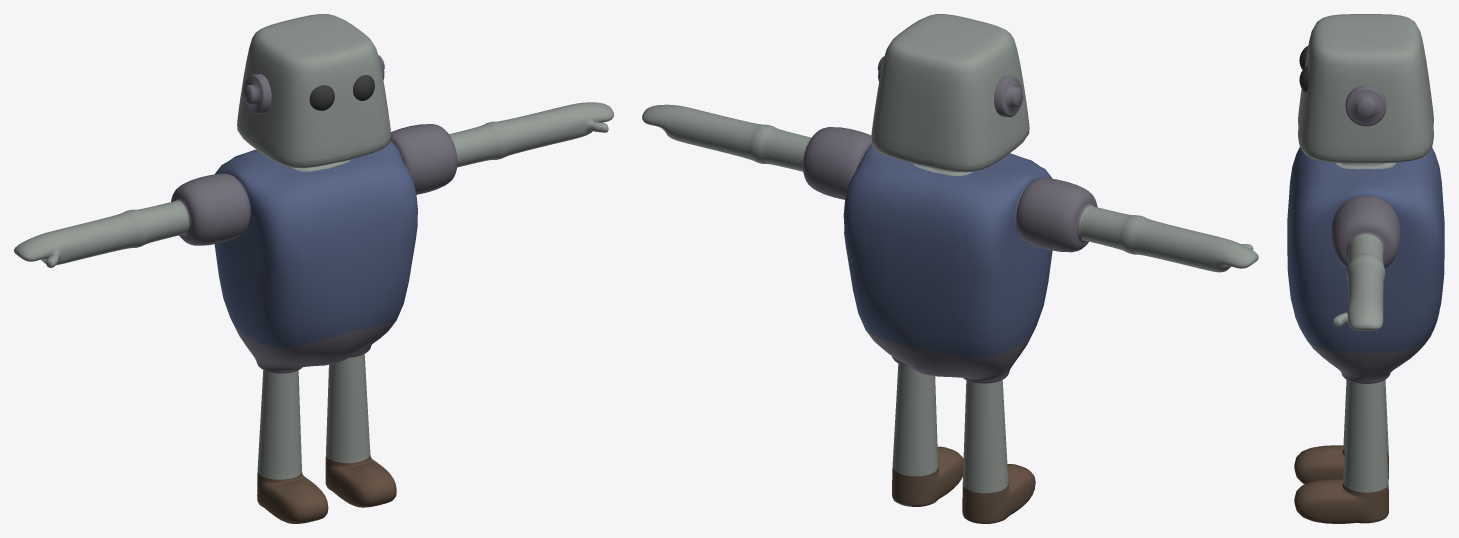
The model's file is Pumba robot.fbx.
3 renders of one model, left to right at view 1: azimuth 30°, elevation 25°; view 2: azimuth 150°, elevation 25°; view 3: azimuth 270°, elevation 25°, orthographic. The views are drawn at different scales.
Visible parts, largest first — view 1: Cube.001; view 2: Cube.001; view 3: Cube.001.
Boxes of the visible parts, x1,y1,x2,y2 form: Cube.001: (14, 14, 613, 523); Cube.001: (642, 14, 1258, 523); Cube.001: (1287, 14, 1444, 523).
Bounding box in the file's own units: 230 × 170 × 52.12.
